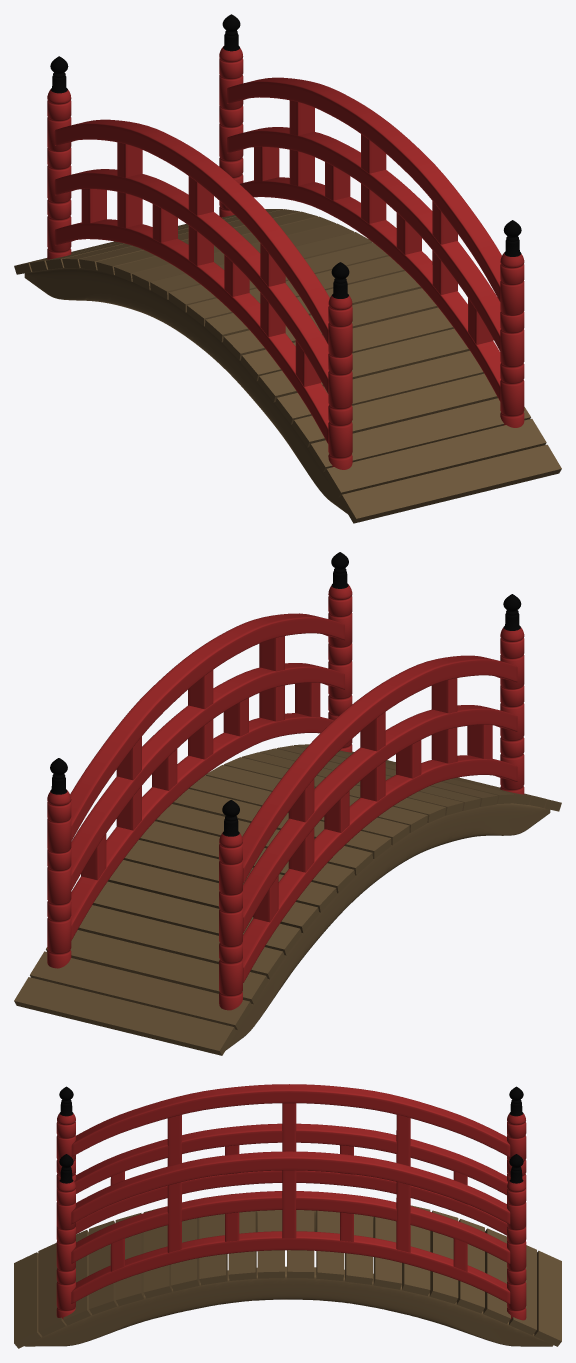
The model's file is bridge.glb.
The picture shows the model from 3 angles, top to bottom: view 1: azimuth 30°, elevation 25°; view 2: azimuth 150°, elevation 25°; view 3: azimuth 270°, elevation 25°; orthographic projection. The views are drawn at different scales.
Parts seen in each view (by area): view 1: g (×23); view 2: g (×24); view 3: g (×31).
Boxes of the visible parts, x1,y1,x2,y2 form: g (×23): [24, 46, 561, 523]; g (×24): [14, 584, 550, 1055]; g (×31): [14, 1084, 561, 1348].
Bounding box in the file's own units: 0.6934 × 0.7581 × 2.
